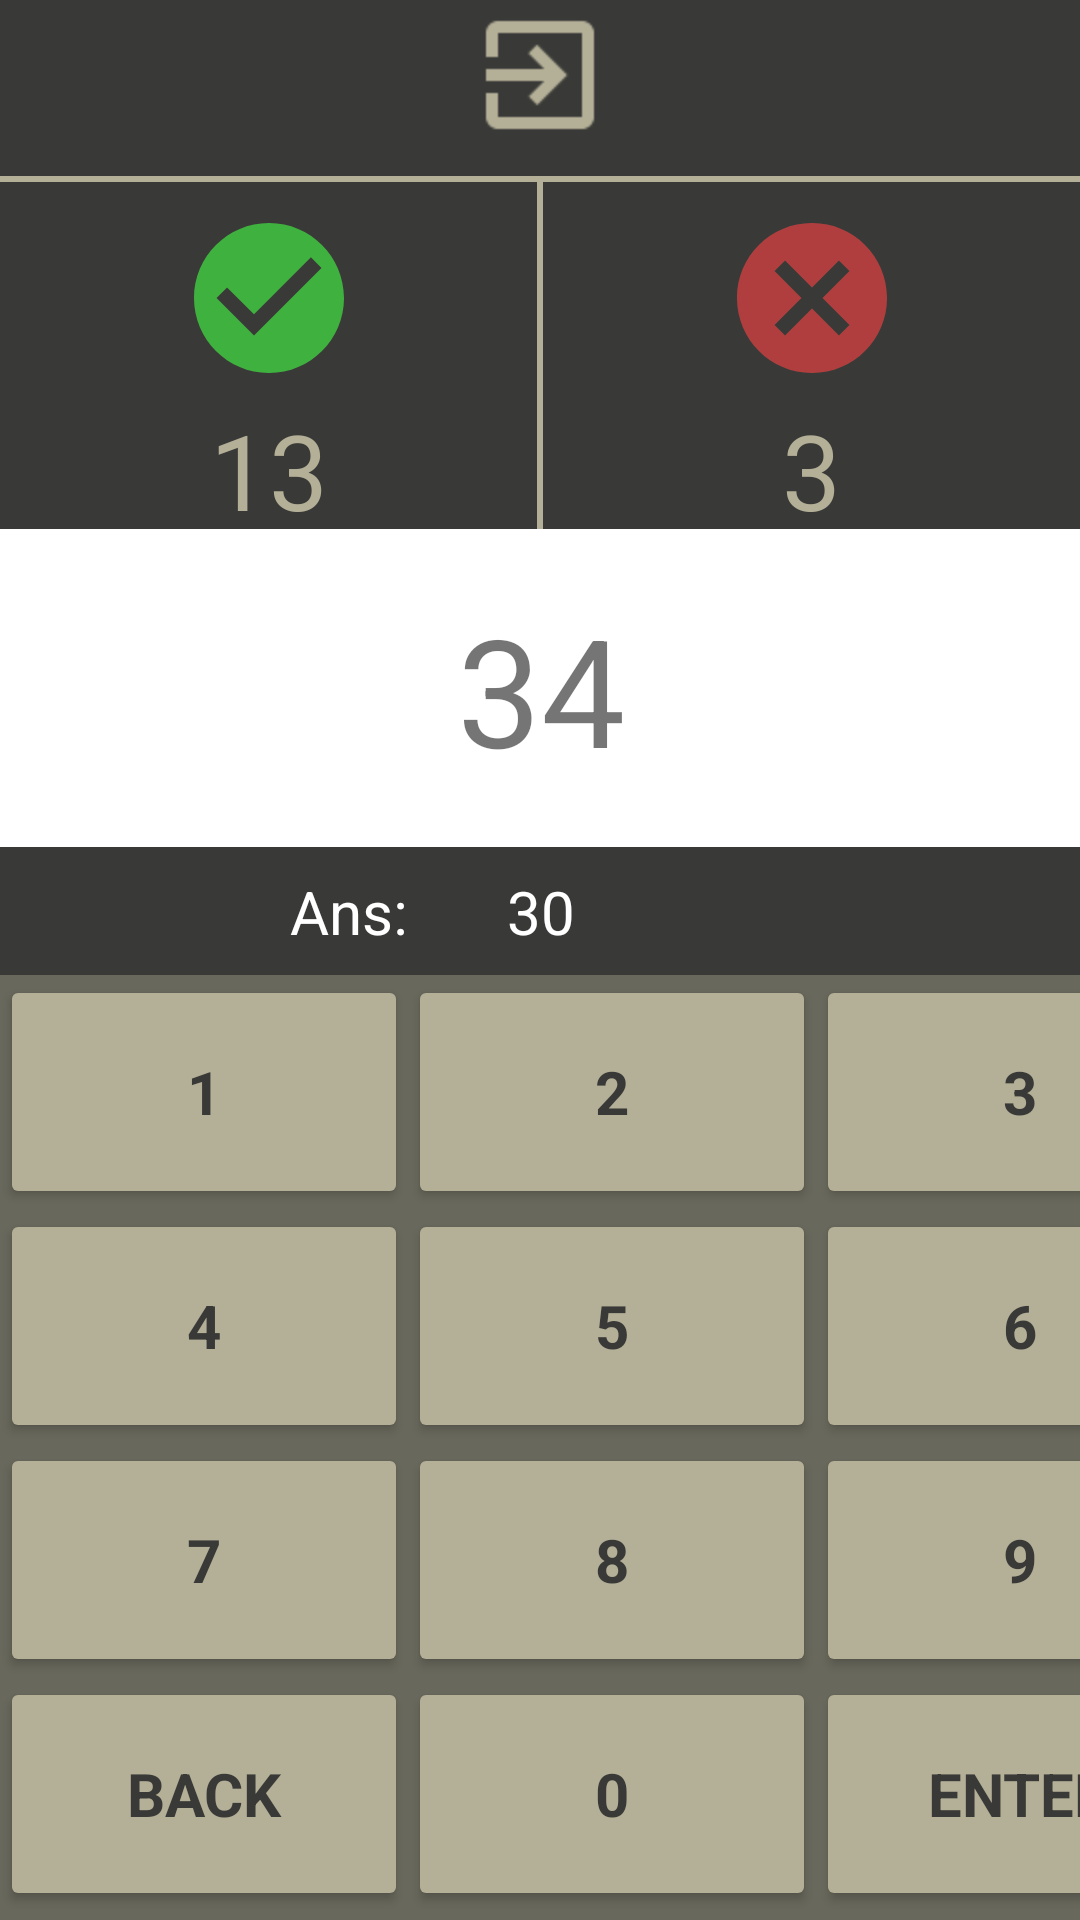

Named icons in this screenshot (1080px x 1920px) and their centers, [x,y]:
cancel: [812,298]
check circle: [269,298]
